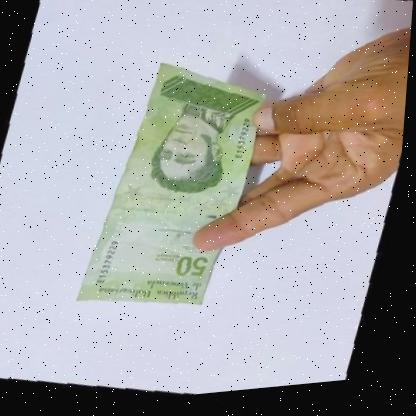fifty-front-vef: (79, 53, 279, 331)
